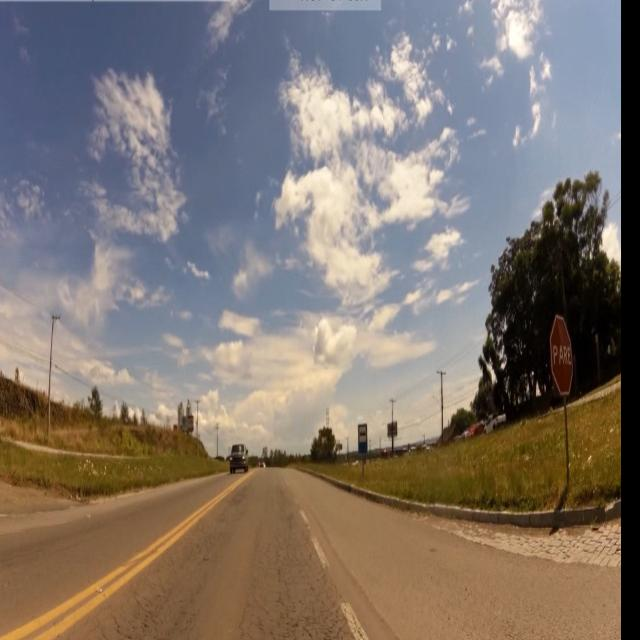R-1: (552, 310, 576, 400)
